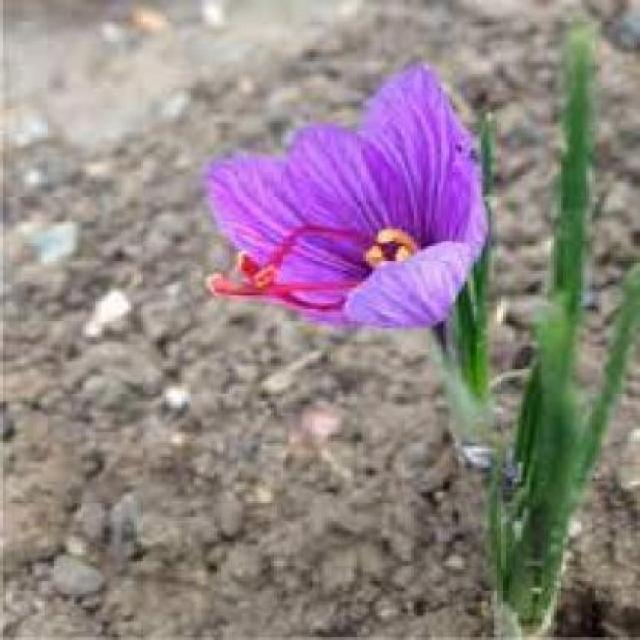saffron open: (201, 67, 486, 342)
